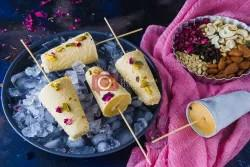Kulfi: (39, 77, 89, 138), (115, 49, 160, 104), (85, 66, 131, 118), (42, 33, 98, 72)
